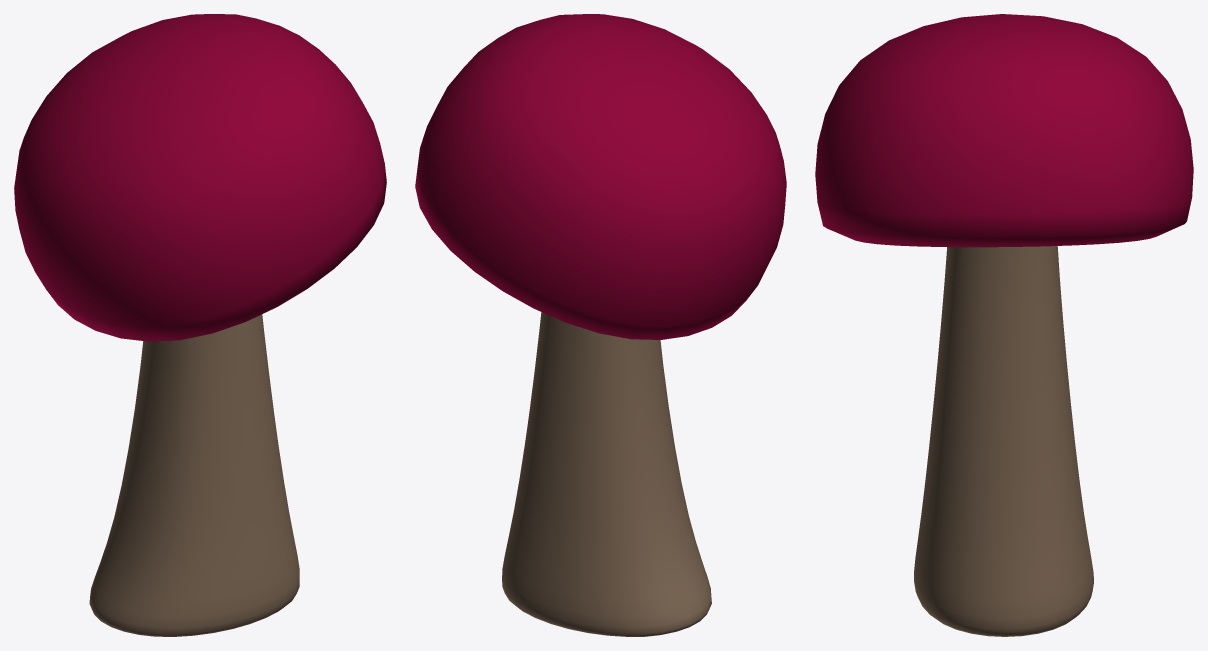
Rendered from RedShroom.fbx.
3 views of the same model, side by side, from view 1: azimuth 30°, elevation 25°; view 2: azimuth 150°, elevation 25°; view 3: azimuth 270°, elevation 25° (orthographic). The views are drawn at different scales.
Parts seen in each view (by area): view 1: Cap Fliegenpilz.002, Stiel Fliegenpilz; view 2: Cap Fliegenpilz.002, Stiel Fliegenpilz; view 3: Cap Fliegenpilz.002, Stiel Fliegenpilz.
Part boxes in pixels (box(x1,y1,x2,y2)): Cap Fliegenpilz.002: box(14, 14, 386, 341); Stiel Fliegenpilz: box(89, 314, 299, 636); Cap Fliegenpilz.002: box(415, 14, 786, 339); Stiel Fliegenpilz: box(502, 312, 711, 636); Cap Fliegenpilz.002: box(815, 14, 1193, 247); Stiel Fliegenpilz: box(914, 246, 1093, 636).
Size of the model in its own units: 89.39 by 151 by 89.76.
